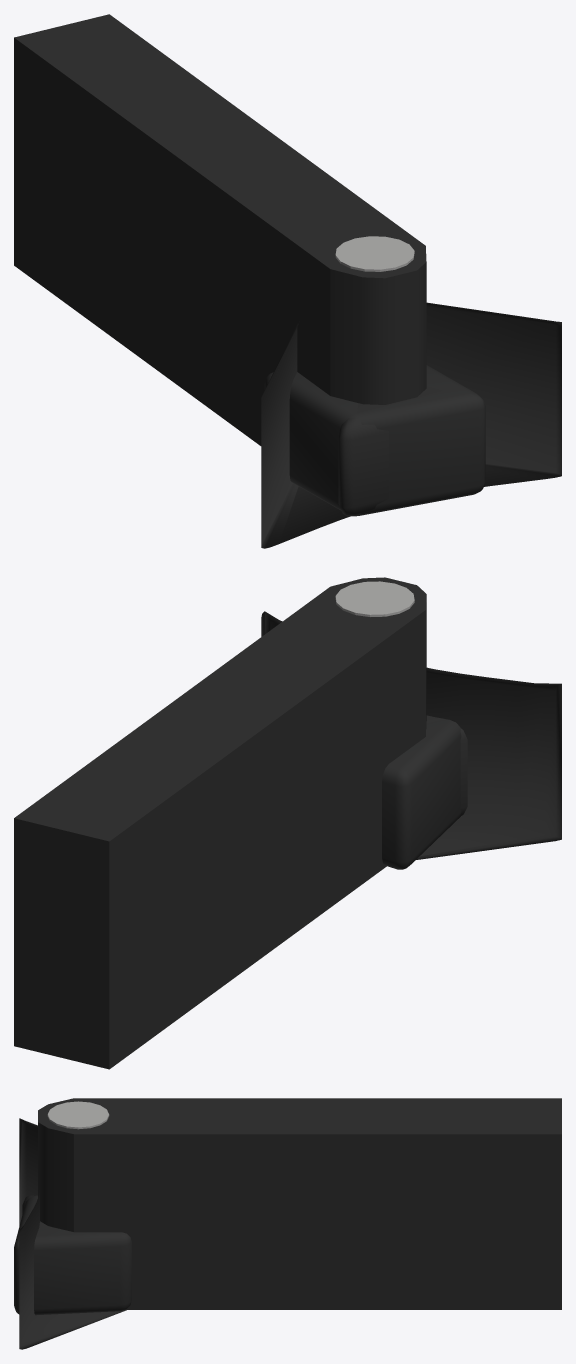
File: numberattack.fbx
The picture shows the model from 3 angles, top to bottom: view 1: azimuth 30°, elevation 25°; view 2: azimuth 150°, elevation 25°; view 3: azimuth 270°, elevation 25°; orthographic projection. The views are drawn at different scales.
Parts seen in each view (by area): view 1: truxoay, tamgiackhuyet, hinhthoi, tamgiac; view 2: truxoay, tamgiackhuyet, hinhthoi, tamgiac; view 3: truxoay, hinhthoi, tamgiackhuyet.
Boxes of the visible parts, <box> form: truxoay: <box>14,14,426,445</box>; tamgiackhuyet: <box>261,302,561,548</box>; hinhthoi: <box>264,365,485,515</box>; tamgiac: <box>338,386,446,516</box>; truxoay: <box>14,577,426,1069</box>; tamgiackhuyet: <box>261,611,561,859</box>; hinhthoi: <box>382,719,461,869</box>; tamgiac: <box>426,715,467,815</box>; truxoay: <box>38,1098,561,1309</box>; hinhthoi: <box>14,1195,131,1315</box>; tamgiackhuyet: <box>19,1118,126,1349</box>.
Size of the model in its own units: 408 by 300 by 835.
